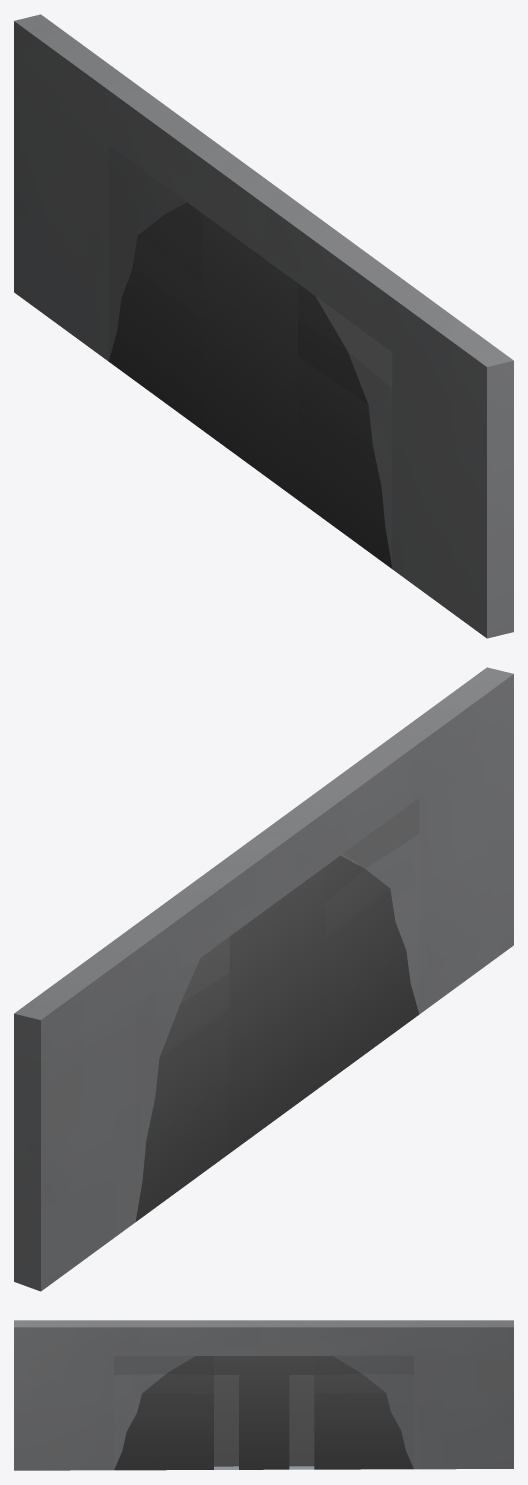
Rendered from pared puierta blindada.fbx.
The picture shows the model from 3 angles, top to bottom: view 1: azimuth 30°, elevation 25°; view 2: azimuth 150°, elevation 25°; view 3: azimuth 270°, elevation 25°; orthographic projection. The views are drawn at different scales.
Visible parts, largest first — view 1: Cube.004, Cube.002; view 2: Cube.004, Cube.002; view 3: Cube.004, Cube.002.
Boxes of the visible parts, bbox=[...] form: Cube.004: bbox=[14, 14, 513, 638]; Cube.002: bbox=[108, 202, 392, 568]; Cube.004: bbox=[14, 667, 513, 1291]; Cube.002: bbox=[135, 855, 419, 1221]; Cube.004: bbox=[14, 1320, 513, 1470]; Cube.002: bbox=[114, 1356, 413, 1470].
Size of the model in its own units: 33.21 by 320 by 1011.
Materials: 2 (2 with a texture image).
